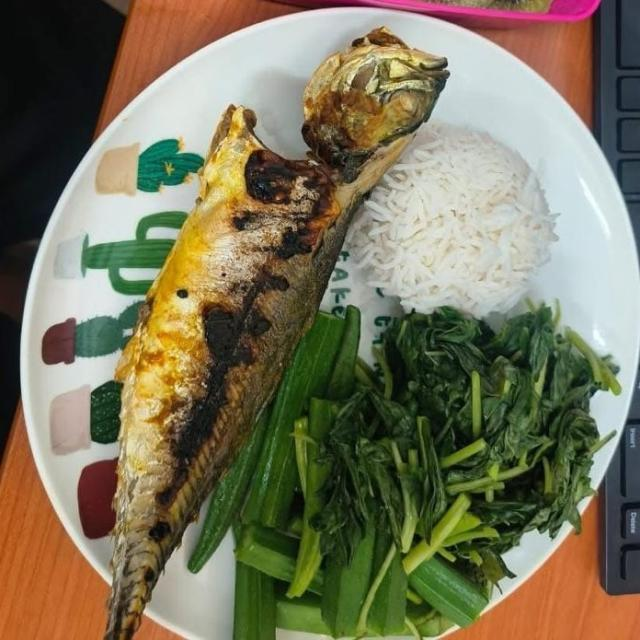Fish: (104, 27, 455, 639)
Plate: (20, 11, 639, 583)
Rice: (341, 127, 561, 323)
Vegetables: (181, 301, 624, 639)
